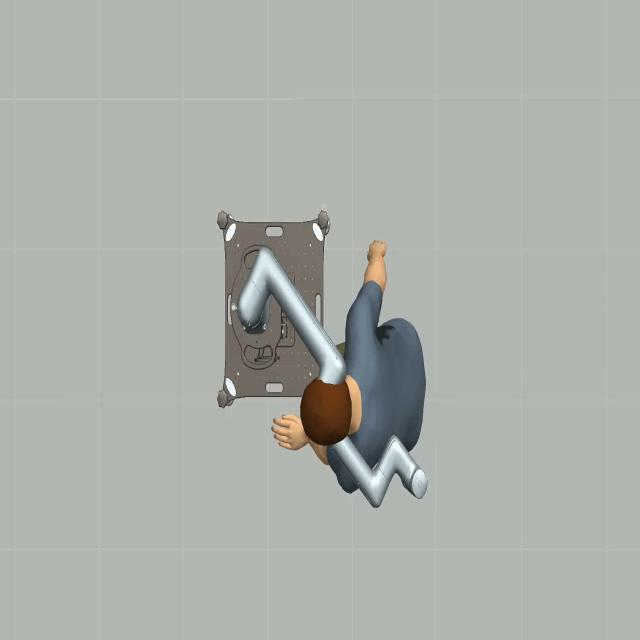human: (269, 234, 430, 530)
robot: (238, 242, 428, 508)
